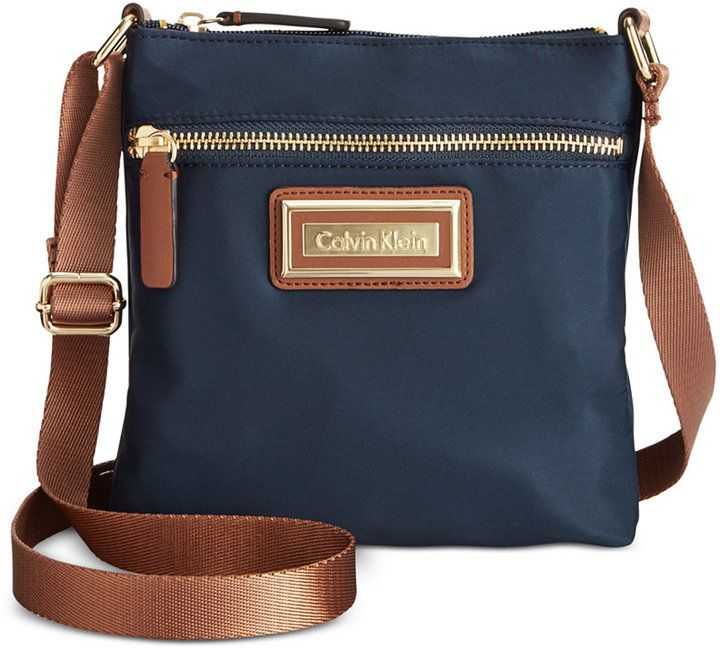nylon: (12, 22, 716, 642)
